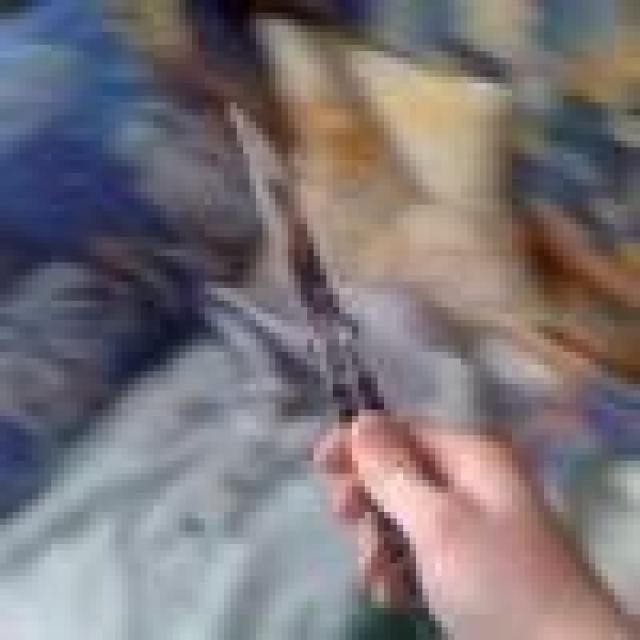senjata_tajam: (229, 92, 391, 418)
